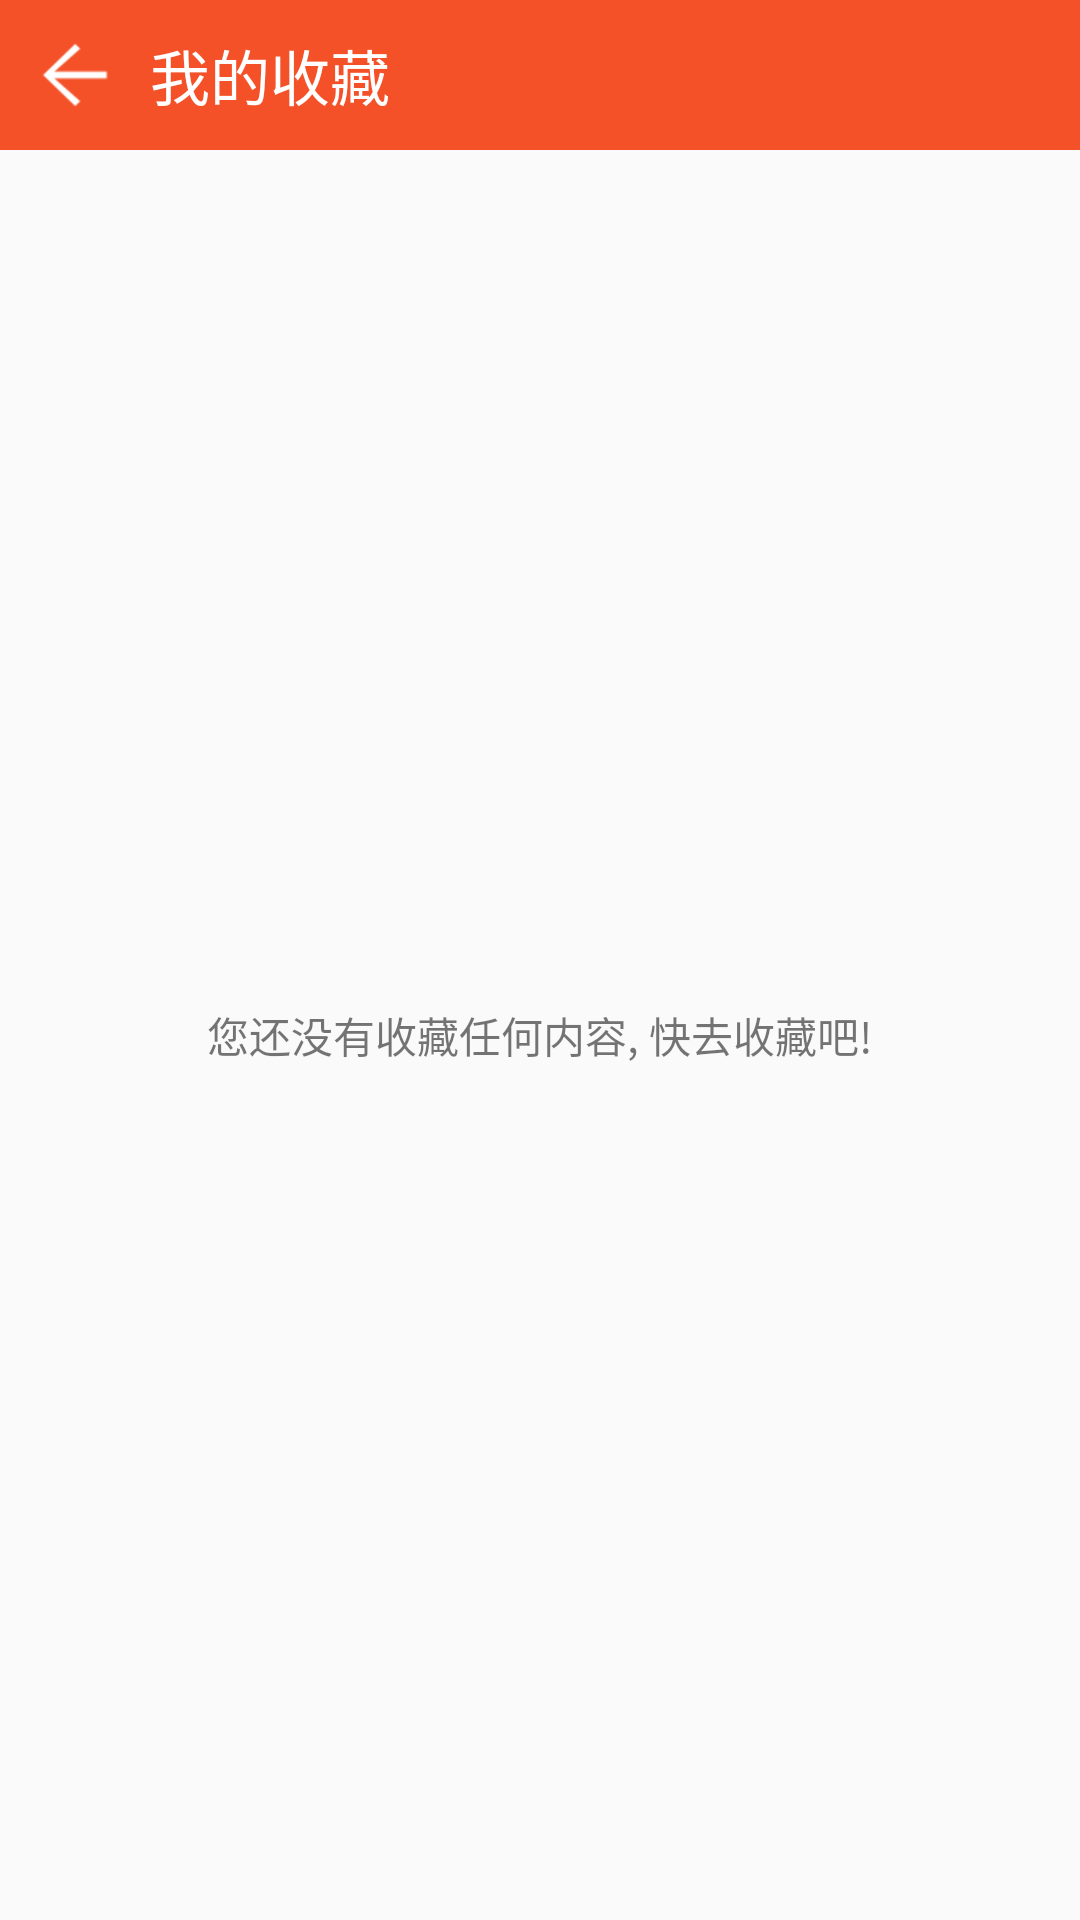

Locate icon controls on the screen. Image size 1080*1920, boxes as (x1, y1, x2, y2).
back: (43, 44, 108, 106)
